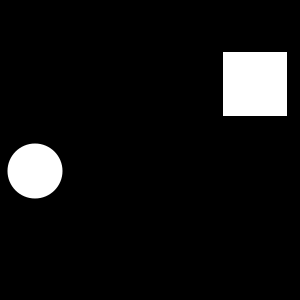circle: (223, 52, 287, 116)
rectangle: (8, 143, 62, 198)
